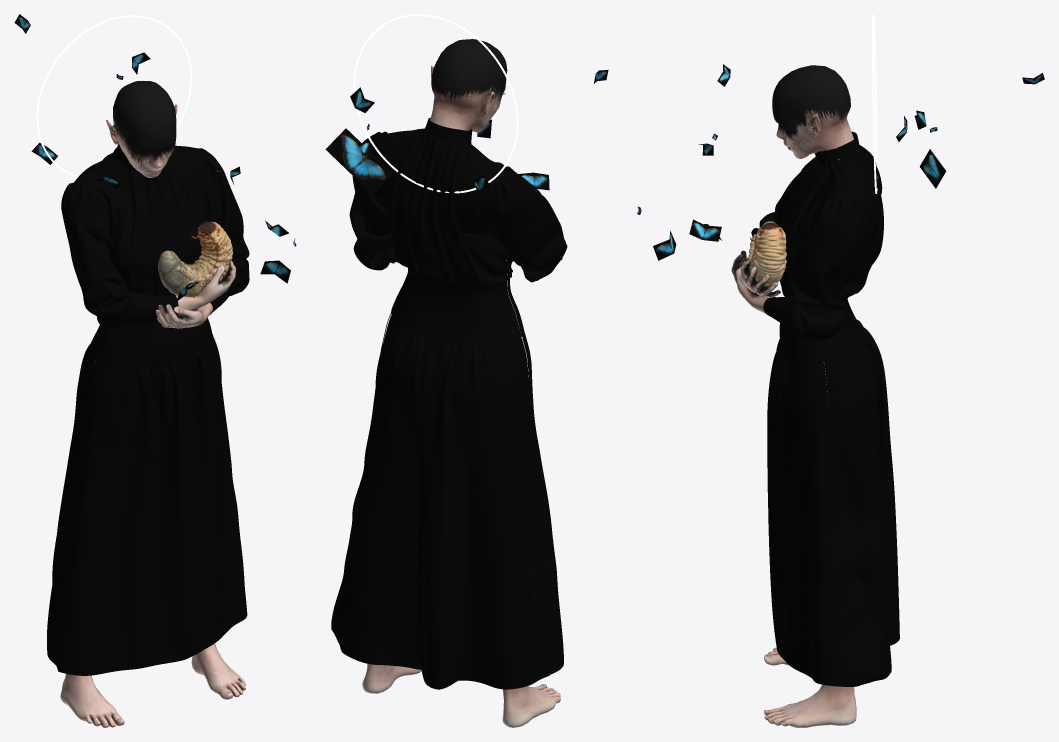
The model's file is manny-transformed.glb.
The picture shows the model from 3 angles, left to right: view 1: azimuth 30°, elevation 25°; view 2: azimuth 150°, elevation 25°; view 3: azimuth 270°, elevation 25°; orthographic projection. The views are drawn at different scales.
Parts seen in each view (by area): view 1: Mesh_001_Buttons_001_0, human_female_genericMesh_001_human_body_001_0, QS1490_W01_1_1_002_QS1490_W01_1_1_001_0, pngimg_com___moth_PNG31_002_Moth__Texture_0, Torus_Material_002_0; view 2: Mesh_001_Buttons_001_0, human_female_genericMesh_001_human_body_001_0, pngimg_com___moth_PNG31_002_Moth__Texture_0, Torus_Material_002_0; view 3: Mesh_001_Buttons_001_0, human_female_genericMesh_001_human_body_001_0, pngimg_com___moth_PNG31_002_Moth__Texture_0, QS1490_W01_1_1_002_QS1490_W01_1_1_001_0, Torus_Material_002_0.
Boxes of the visible parts, left/top/right/bottom form: Mesh_001_Buttons_001_0: left=47, top=144, right=249, bottom=675; human_female_genericMesh_001_human_body_001_0: left=60, top=81, right=246, bottom=727; QS1490_W01_1_1_002_QS1490_W01_1_1_001_0: left=158, top=221, right=232, bottom=297; pngimg_com___moth_PNG31_002_Moth__Texture_0: left=14, top=14, right=296, bottom=301; Torus_Material_002_0: left=36, top=15, right=191, bottom=177; Mesh_001_Buttons_001_0: left=331, top=118, right=567, bottom=689; human_female_genericMesh_001_human_body_001_0: left=362, top=39, right=560, bottom=727; pngimg_com___moth_PNG31_002_Moth__Texture_0: left=325, top=69, right=608, bottom=194; Torus_Material_002_0: left=353, top=14, right=518, bottom=193; Mesh_001_Buttons_001_0: left=751, top=131, right=899, bottom=686; human_female_genericMesh_001_human_body_001_0: left=731, top=65, right=856, bottom=727; pngimg_com___moth_PNG31_002_Moth__Texture_0: left=637, top=64, right=1044, bottom=260; QS1490_W01_1_1_002_QS1490_W01_1_1_001_0: left=747, top=221, right=786, bottom=286; Torus_Material_002_0: left=872, top=14, right=877, bottom=193.
Size of the model in its own units: 0.5528 by 1.76 by 0.975.
10 materials, 6 textured.
